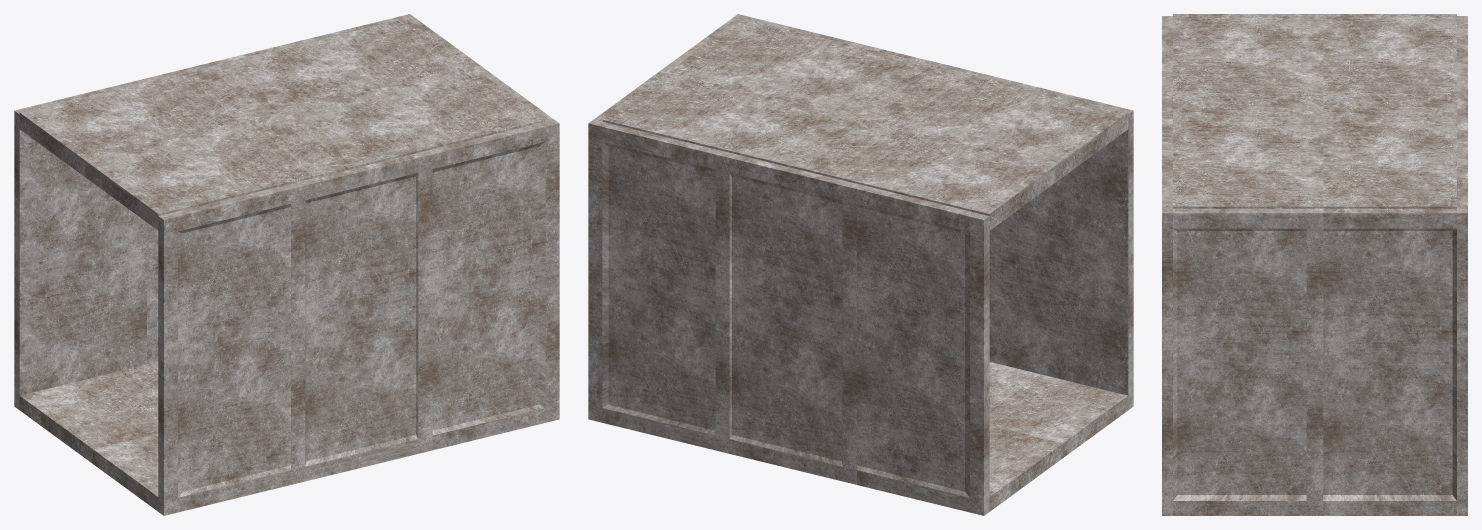
The picture shows the model from 3 angles, left to right: view 1: azimuth 30°, elevation 25°; view 2: azimuth 150°, elevation 25°; view 3: azimuth 270°, elevation 25°; orthographic projection. The views are drawn at different scales.
Parts seen in each view (by area): view 1: Large_Crate; view 2: Large_Crate; view 3: Large_Crate.
Boxes of the visible parts, box(x1,y1,x2,y2) form: Large_Crate: box(14, 14, 559, 515); Large_Crate: box(588, 14, 1133, 515); Large_Crate: box(1162, 14, 1467, 515).
Size of the model in its own units: 0.042 by 0.0302 by 0.0275.
Materials: 1 (1 with a texture image).
